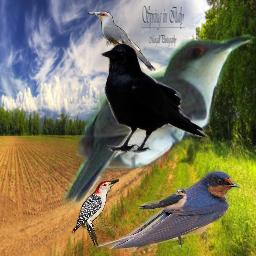Crow: (98, 42, 209, 154)
Cuckoo: (62, 34, 256, 208), (87, 11, 156, 72)
Swallow: (95, 169, 241, 252), (138, 187, 187, 214)
Woodpecker: (71, 179, 119, 248)
